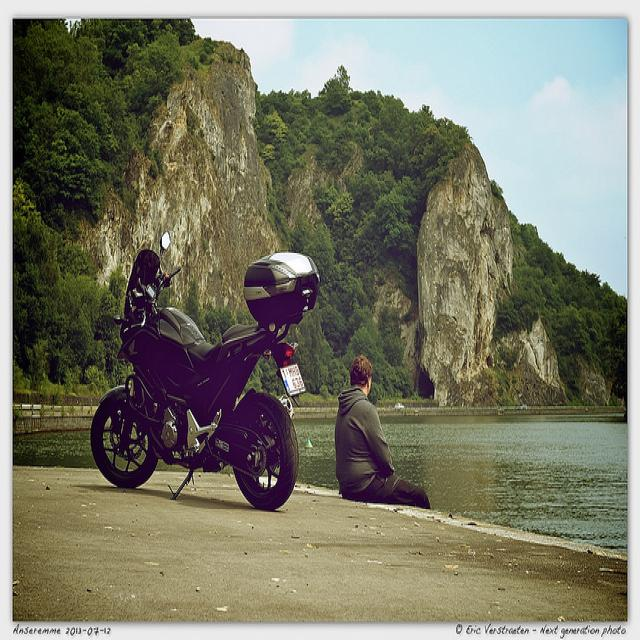motor: (92, 229, 321, 513)
